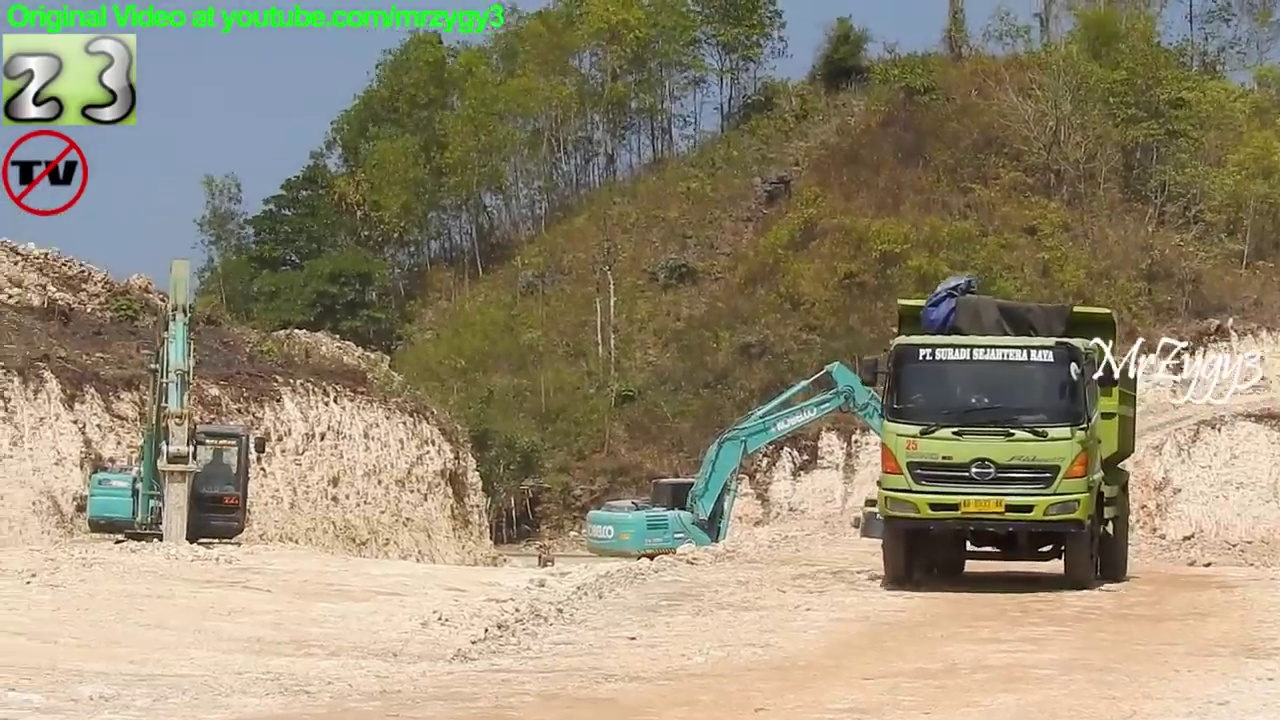excavator: (579, 355, 975, 595), (78, 254, 274, 593)
truck: (851, 292, 1144, 595), (847, 493, 964, 609)
